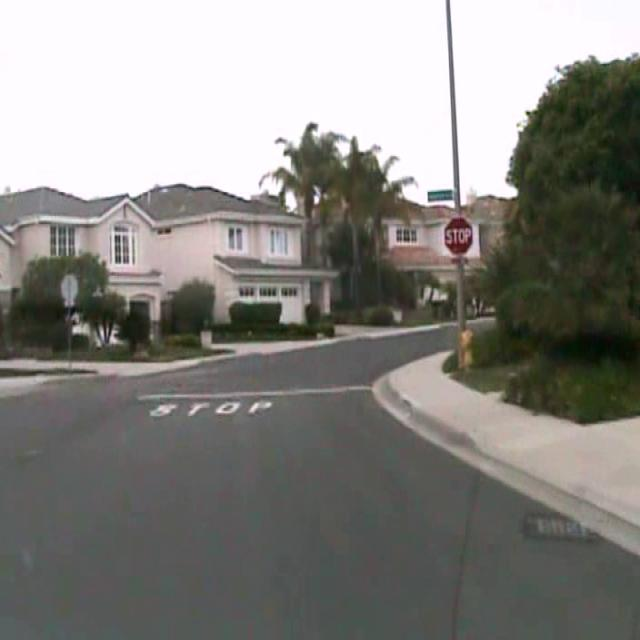stop: (442, 215, 473, 256)
